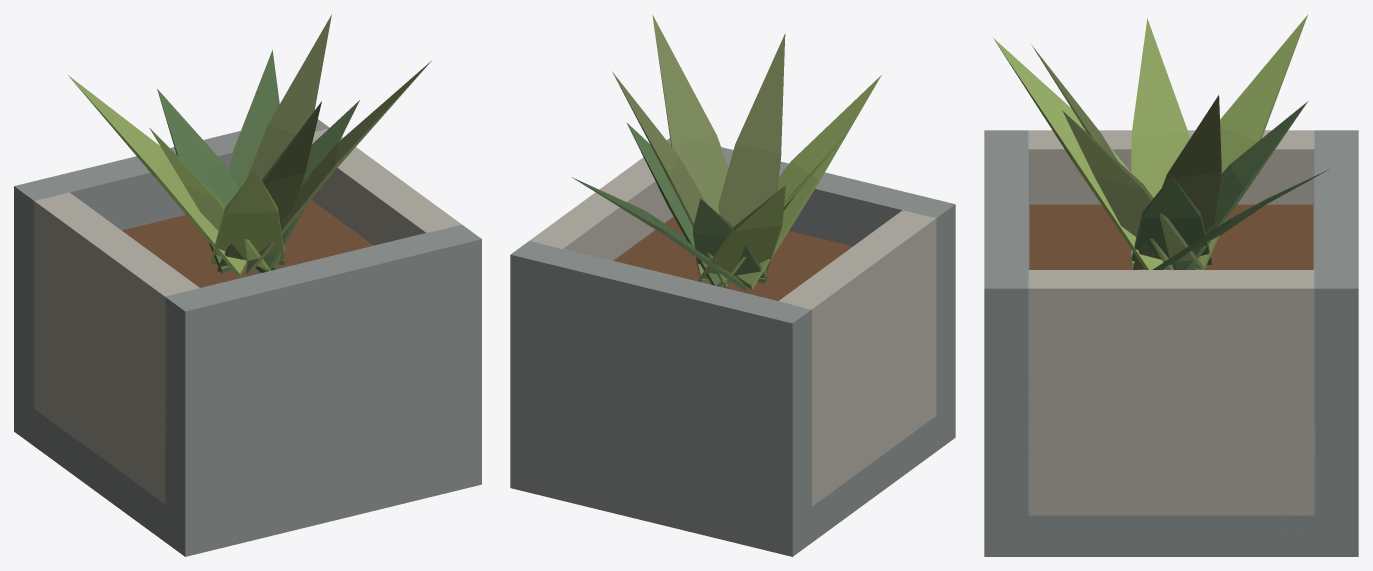
The model's file is prop_planter.glb.
3 renders of one model, left to right at view 1: azimuth 30°, elevation 25°; view 2: azimuth 150°, elevation 25°; view 3: azimuth 270°, elevation 25°, orthographic. The views are drawn at different scales.
Parts seen in each view (by area): view 1: prop_planter__Planter front wall -1, prop_planter__Planter side wall -1, prop_planter__Planter base, prop_planter__Planter front wall 1, prop_planter__Planter side wall 1, prop_planter__Planter soil, prop_planter__Planter pointed leaf 8, prop_planter__Planter pointed leaf 7, prop_planter__Planter pointed leaf 1, prop_planter__Planter pointed leaf 6, prop_planter__Planter pointed leaf 2, prop_planter__Planter pointed leaf 5 (+3 smaller); view 2: prop_planter__Planter front wall 1, prop_planter__Planter side wall -1, prop_planter__Planter base, prop_planter__Planter front wall -1, prop_planter__Planter side wall 1, prop_planter__Planter pointed leaf 2, prop_planter__Planter soil, prop_planter__Planter pointed leaf 5, prop_planter__Planter pointed leaf 7, prop_planter__Planter pointed leaf 1, prop_planter__Planter pointed leaf 8, prop_planter__Planter pointed leaf 6 (+2 smaller); view 3: prop_planter__Planter side wall 1, prop_planter__Planter front wall -1, prop_planter__Planter front wall 1, prop_planter__Planter base, prop_planter__Planter soil, prop_planter__Planter side wall -1, prop_planter__Planter pointed leaf 4, prop_planter__Planter pointed leaf 1, prop_planter__Planter pointed leaf 5, prop_planter__Planter pointed leaf 8, prop_planter__Planter pointed leaf 7, prop_planter__Planter pointed leaf 0 (+3 smaller).
Part boxes in pixels (bbox=[...]): prop_planter__Planter front wall -1: bbox=[165, 225, 481, 536]; prop_planter__Planter side wall -1: bbox=[33, 192, 199, 504]; prop_planter__Planter base: bbox=[14, 394, 481, 556]; prop_planter__Planter front wall 1: bbox=[14, 119, 329, 426]; prop_planter__Planter side wall 1: bbox=[311, 128, 461, 245]; prop_planter__Planter soil: bbox=[122, 200, 373, 287]; prop_planter__Planter pointed leaf 8: bbox=[246, 14, 331, 270]; prop_planter__Planter pointed leaf 7: bbox=[211, 170, 284, 263]; prop_planter__Planter pointed leaf 1: bbox=[68, 75, 247, 278]; prop_planter__Planter pointed leaf 6: bbox=[157, 89, 239, 273]; prop_planter__Planter pointed leaf 2: bbox=[217, 101, 321, 271]; prop_planter__Planter pointed leaf 5: bbox=[246, 60, 431, 276]; prop_planter__Planter front wall 1: bbox=[510, 240, 811, 537]; prop_planter__Planter side wall -1: bbox=[779, 210, 936, 506]; prop_planter__Planter base: bbox=[510, 402, 955, 556]; prop_planter__Planter front wall -1: bbox=[666, 138, 955, 425]; prop_planter__Planter side wall 1: bbox=[530, 157, 673, 260]; prop_planter__Planter pointed leaf 2: bbox=[718, 33, 785, 283]; prop_planter__Planter soil: bbox=[613, 217, 852, 300]; prop_planter__Planter pointed leaf 5: bbox=[652, 14, 728, 283]; prop_planter__Planter pointed leaf 7: bbox=[736, 75, 881, 289]; prop_planter__Planter pointed leaf 1: bbox=[699, 185, 785, 281]; prop_planter__Planter pointed leaf 8: bbox=[612, 71, 730, 288]; prop_planter__Planter pointed leaf 6: bbox=[693, 198, 766, 281]; prop_planter__Planter side wall 1: bbox=[1027, 270, 1315, 536]; prop_planter__Planter front wall -1: bbox=[984, 130, 1028, 534]; prop_planter__Planter front wall 1: bbox=[1314, 130, 1358, 535]; prop_planter__Planter base: bbox=[984, 515, 1358, 556]; prop_planter__Planter soil: bbox=[1029, 204, 1313, 269]; prop_planter__Planter side wall -1: bbox=[1027, 130, 1315, 269]; prop_planter__Planter pointed leaf 4: bbox=[1131, 18, 1211, 267]; prop_planter__Planter pointed leaf 1: bbox=[1190, 15, 1307, 269]; prop_planter__Planter pointed leaf 5: bbox=[1062, 110, 1205, 269]; prop_planter__Planter pointed leaf 8: bbox=[1133, 95, 1221, 269]; prop_planter__Planter pointed leaf 7: bbox=[993, 38, 1166, 269]; prop_planter__Planter pointed leaf 0: bbox=[1131, 176, 1211, 264].
Size of the model in its own units: 0.74 by 0.959 by 0.74.
